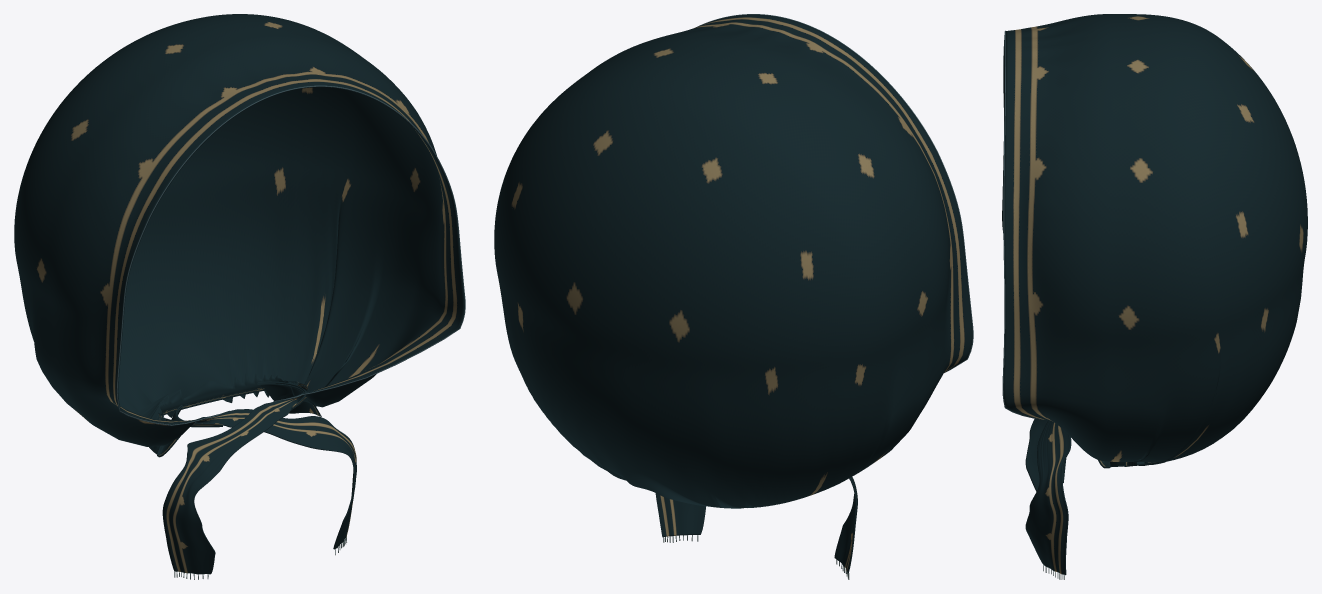
File: Feminine-space-buns-bandeau-pashmina250-headgear.glb
3 views of the same model, side by side, from view 1: azimuth 30°, elevation 25°; view 2: azimuth 150°, elevation 25°; view 3: azimuth 270°, elevation 25° (orthographic). The views are drawn at different scales.
Visible parts, largest first — view 1: 226 headgear / Headwear / continuous woven pashmina239, 226 headgear / Headwear / face edge239; view 2: 226 headgear / Headwear / continuous woven pashmina239, 226 headgear / Headwear / face edge239; view 3: 226 headgear / Headwear / continuous woven pashmina239, 226 headgear / Headwear / face edge239.
Part boxes in pixels (x1=…): 226 headgear / Headwear / continuous woven pashmina239: x1=14, y1=14, x2=464, y2=574; 226 headgear / Headwear / face edge239: x1=116, y1=85, x2=465, y2=425; 226 headgear / Headwear / continuous woven pashmina239: x1=494, y1=14, x2=972, y2=573; 226 headgear / Headwear / face edge239: x1=695, y1=14, x2=973, y2=372; 226 headgear / Headwear / continuous woven pashmina239: x1=1002, y1=14, x2=1307, y2=575; 226 headgear / Headwear / face edge239: x1=1002, y1=30, x2=1042, y2=419.
Size of the model in its own units: 1.07 by 1.37 by 0.7556.
Materials: 3 (1 with a texture image).
